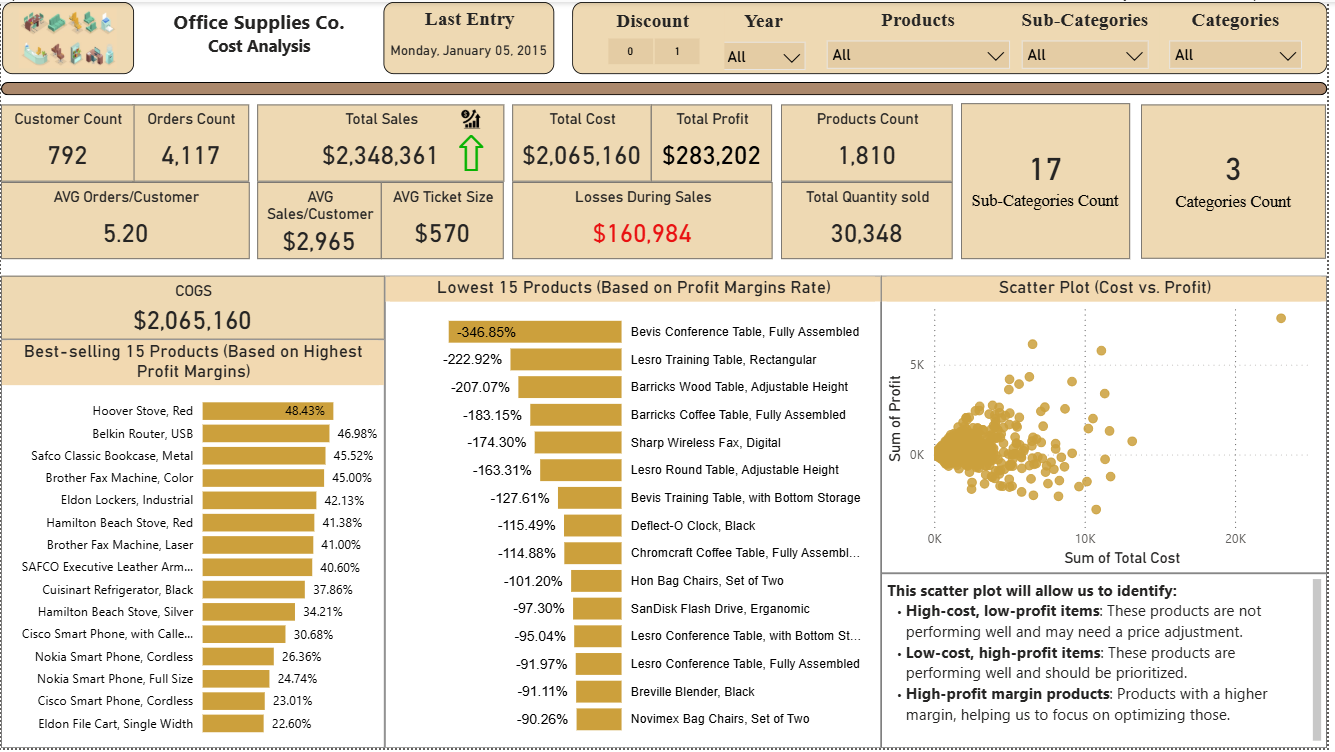

Layout of this report page (visuals, bound fields, positions):
{"tool":"powerbi","page":{"name":"13. Cost Analysis","canvas":[1280,720],"ordinal":13},"visuals":[{"type":"card","title":"Last Entry","fields":{"Values":["Max(Dim_Date.Dim_Date)"]},"box":[369.6,0,165.1,69.9],"z":0},{"type":"shape","box":[551.2,0,729,69.9],"z":1000},{"type":"slicer","title":"Year","fields":{"Values":["Dim_Date.Dim_Date.Variation.Date Hierarchy.Year"]},"box":[685.7,2.9,101.4,65.7],"z":2000},{"type":"slicer","title":"Categories","fields":{"Values":["Dim_Category.Category"]},"box":[1117.1,1.4,148.6,65.7],"z":3000},{"type":"slicer","title":"Products","fields":{"Values":["Dim_Product.Product Name"]},"box":[787.1,1.4,197.1,65.7],"z":4000},{"type":"image","box":[1.3,0,127,69.9],"z":5000},{"type":"textbox","box":[137.2,0,223.5,68.6],"z":6000},{"type":"card","title":"Total Sales","fields":{"Values":["_Key Measure.Total Sales"]},"box":[247.1,99,238.6,74.3],"z":7000},{"type":"card","title":"Total Profit","fields":{"Values":["_Key Measure.Total Profit"]},"box":[627.1,99,117.1,74.3],"z":8000},{"type":"card","title":"Total Cost","fields":{"Values":["_Key Measure.Total Cost"]},"box":[492.9,99,134.3,74.3],"z":9000},{"type":"card","title":"Orders Count","fields":{"Values":["_Key Measure.Orders Count"]},"box":[127.1,99,112.9,74.3],"z":10000},{"type":"card","title":"Customer Count","fields":{"Values":["_Key Measure.Customer Count"]},"box":[0,99,128.6,74.3],"z":11000},{"type":"card","title":"Products Count","fields":{"Values":["_Key Measure.Products Count"]},"box":[752.9,99,165.7,74.3],"z":12000},{"type":"slicer","title":"Sub-Categories","fields":{"Values":["Dim_Sub-Category.Sub-Category"]},"box":[974.3,1.4,142.9,67.1],"z":13000},{"type":"card","fields":{"Values":["_Key Measure.Categories Count"]},"box":[1100,99,178.6,148.6],"z":14000},{"type":"card","fields":{"Values":["_Key Measure.Sub-Categories Count"]},"box":[927.1,97.6,162.9,150],"z":15000},{"type":"shape","box":[0,77.1,1280,12.9],"z":16000},{"type":"card","title":"AVG Orders/Customer","fields":{"Values":["_Key Measure.AVG Order/Customer"]},"box":[0,173.3,240,74.3],"z":17000},{"type":"card","title":"AVG Ticket Size","fields":{"Values":["_Key Measure.AVG Ticket Size"]},"box":[367.1,173.3,118.6,74.3],"z":18000},{"type":"card","title":"AVG Sales/Customer","fields":{"Values":["_Key Measure.AVG Sales/Customer"]},"box":[247.1,173.3,120,74.3],"z":19000},{"type":"card","title":"Losses During Sales","fields":{"Values":["_Key Measure.Lost Profit"]},"box":[492.9,173.3,251.4,74.3],"z":20000},{"type":"card","title":"Total Quantity sold","fields":{"Values":["_Key Measure.Total Quantity sold"]},"box":[752.9,173.3,165.7,74.3],"z":21000},{"type":"card","fields":{"Values":["_Key Measure.Sales Arrow"]},"box":[427.1,111.4,54.3,61.4],"z":22000},{"type":"image","box":[425.7,98.6,55.7,28.6],"z":23000},{"type":"card","title":"COGS","fields":{"Values":["_Key Measure.Total Cost"]},"box":[0,264.3,370,61.4],"z":24000},{"type":"clusteredBarChart","title":"Best-selling 15 Products (Based on Highest Profit Margins)","fields":{"Category":["Dim_Product.Product Name"],"Y":["_Key Measure.Profit Margin Rate"]},"box":[0,325.7,370,394.3],"z":25000},{"type":"clusteredBarChart","title":"Lowest 15 Products (Based on  Profit Margins Rate)","fields":{"Category":["Dim_Product.Product Name"],"Y":["_Key Measure.Profit Margin"]},"box":[370.4,264.2,479,456],"z":26000},{"type":"scatterChart","title":"Scatter Plot (Cost vs. Profit)","fields":{"X":["Sum(Fact_Order Details.Total Cost)"],"Y":["Sum(Fact_Order Details.Profit)"],"Category":["Dim_Product.Product Name"]},"box":[849.3,264.2,430.7,287.1],"z":27000},{"type":"textbox","box":[849.3,551.3,430.7,168.9],"z":28000},{"type":"slicer","title":"Discount","fields":{"Values":["Fact_Order Details.Discount"]},"box":[560,2.9,138.6,64.3],"z":29000}]}

Visuals, with their boxes in screenshot pixels (x1, y1, x2, y2), scaled from the page's 1280x720 canvas onto the 1335x752 screenshot:
"Last Entry" card: pyautogui.locateOnScreen(385, 0, 558, 73)
shape: pyautogui.locateOnScreen(575, 0, 1334, 73)
"Year" slicer: pyautogui.locateOnScreen(715, 3, 821, 72)
"Categories" slicer: pyautogui.locateOnScreen(1165, 1, 1320, 70)
"Products" slicer: pyautogui.locateOnScreen(821, 1, 1026, 70)
image: pyautogui.locateOnScreen(1, 0, 134, 73)
textbox: pyautogui.locateOnScreen(143, 0, 376, 72)
"Total Sales" card: pyautogui.locateOnScreen(258, 103, 507, 181)
"Total Profit" card: pyautogui.locateOnScreen(654, 103, 776, 181)
"Total Cost" card: pyautogui.locateOnScreen(514, 103, 654, 181)
"Orders Count" card: pyautogui.locateOnScreen(133, 103, 250, 181)
"Customer Count" card: pyautogui.locateOnScreen(0, 103, 134, 181)
"Products Count" card: pyautogui.locateOnScreen(785, 103, 958, 181)
"Sub-Categories" slicer: pyautogui.locateOnScreen(1016, 1, 1165, 72)
card - _Key Measure.Categories Count: pyautogui.locateOnScreen(1147, 103, 1334, 259)
card - _Key Measure.Sub-Categories Count: pyautogui.locateOnScreen(967, 102, 1137, 259)
shape: pyautogui.locateOnScreen(0, 81, 1334, 94)
"AVG Orders/Customer" card: pyautogui.locateOnScreen(0, 181, 250, 259)
"AVG Ticket Size" card: pyautogui.locateOnScreen(383, 181, 507, 259)
"AVG Sales/Customer" card: pyautogui.locateOnScreen(258, 181, 383, 259)
"Losses During Sales" card: pyautogui.locateOnScreen(514, 181, 776, 259)
"Total Quantity sold" card: pyautogui.locateOnScreen(785, 181, 958, 259)
card - _Key Measure.Sales Arrow: pyautogui.locateOnScreen(445, 116, 502, 180)
image: pyautogui.locateOnScreen(444, 103, 502, 133)
"COGS" card: pyautogui.locateOnScreen(0, 276, 386, 340)
"Best-selling 15 Products (Based on Highest Profit Margins)" clusteredBarChart: pyautogui.locateOnScreen(0, 340, 386, 751)
"Lowest 15 Products (Based on  Profit Margins Rate)" clusteredBarChart: pyautogui.locateOnScreen(386, 276, 886, 751)
"Scatter Plot (Cost vs. Profit)" scatterChart: pyautogui.locateOnScreen(886, 276, 1334, 576)
textbox: pyautogui.locateOnScreen(886, 576, 1334, 751)
"Discount" slicer: pyautogui.locateOnScreen(584, 3, 729, 70)
